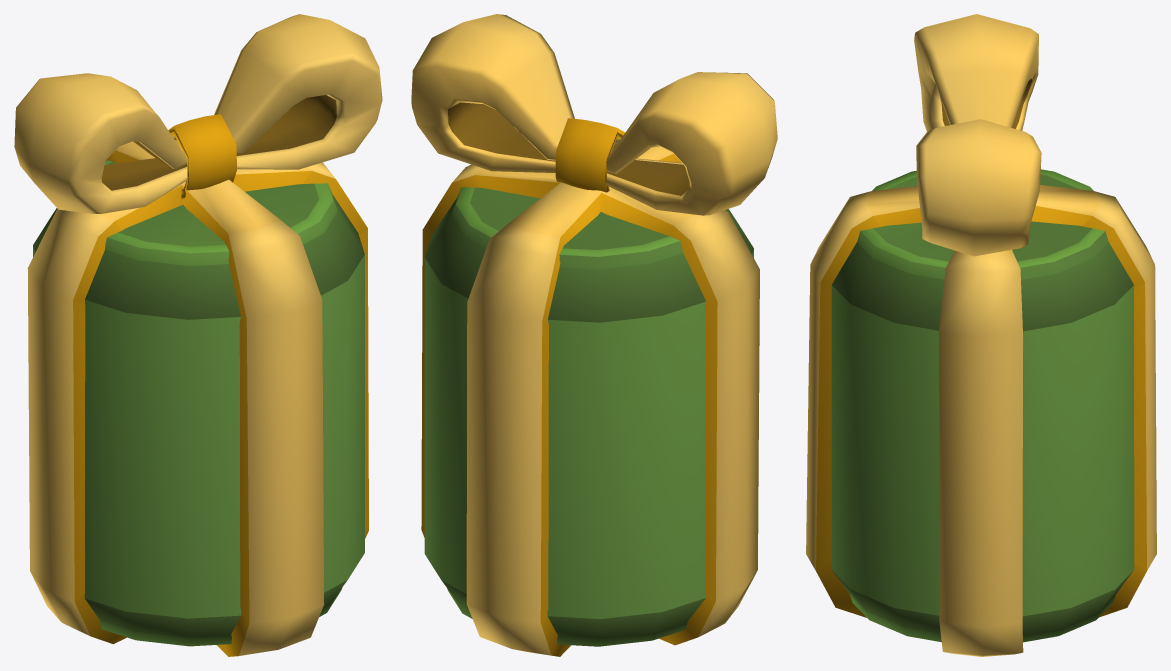
Rendered from Energydrink.fbx.
The picture shows the model from 3 angles, left to right: view 1: azimuth 30°, elevation 25°; view 2: azimuth 150°, elevation 25°; view 3: azimuth 270°, elevation 25°; orthographic projection. The views are drawn at different scales.
Visible parts, largest first — view 1: energy_drink; view 2: energy_drink; view 3: energy_drink.
Part boxes in pixels (x1=…): energy_drink: x1=14, y1=14, x2=382, y2=656; energy_drink: x1=411, y1=14, x2=777, y2=656; energy_drink: x1=806, y1=14, x2=1156, y2=656.
Size of the model in its own units: 26.4 by 40.56 by 24.33.
1 material, 1 textured.
